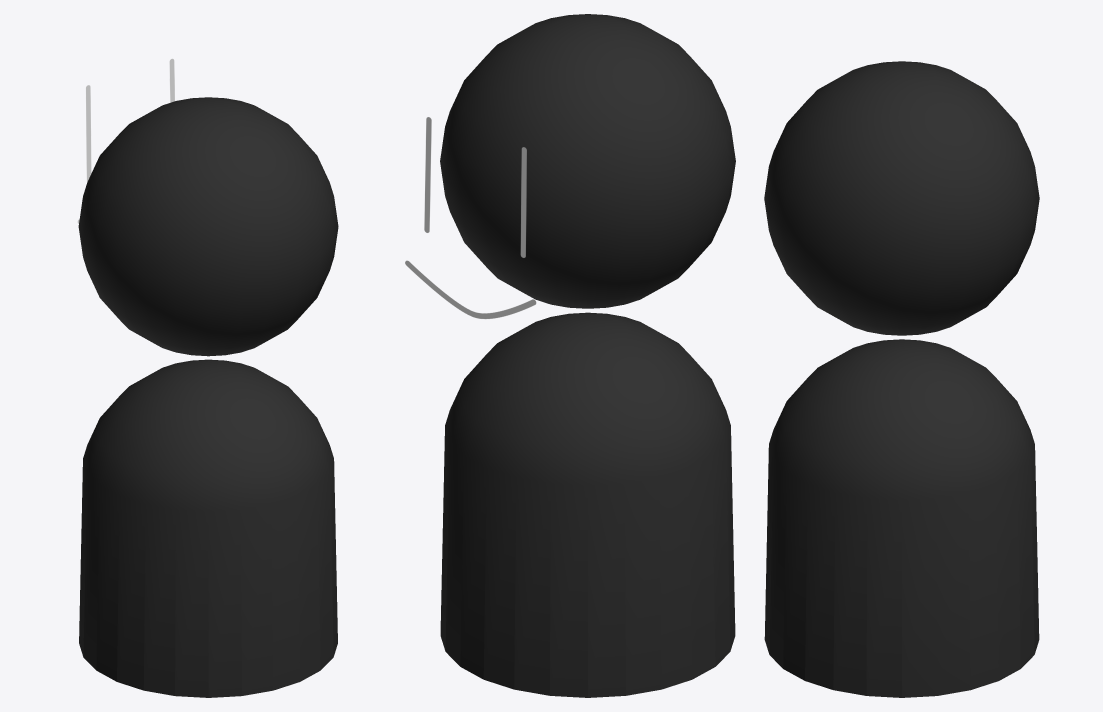
The picture shows the model from 3 angles, left to right: view 1: azimuth 30°, elevation 25°; view 2: azimuth 150°, elevation 25°; view 3: azimuth 270°, elevation 25°; orthographic projection. The views are drawn at different scales.
Visible parts, largest first — view 1: Sphere, Sphere 1, Plane; view 2: Sphere, Sphere 1, Plane; view 3: Sphere, Sphere 1.
Boxes of the visible parts, <box> form: Sphere: <box>79,359,337,697</box>; Sphere 1: <box>78,97,338,356</box>; Plane: <box>77,58,174,223</box>; Sphere: <box>440,312,735,697</box>; Sphere 1: <box>440,14,735,308</box>; Plane: <box>405,117,536,318</box>; Sphere: <box>764,339,1039,697</box>; Sphere 1: <box>764,61,1039,335</box>.
Size of the model in its own units: 1 by 2.29 by 1.18.
Materials: 2 (1 with a texture image).
